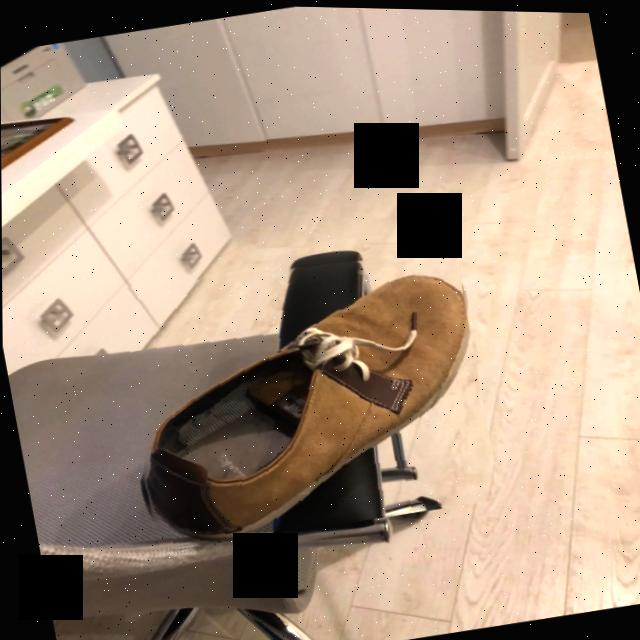shoe: (144, 258, 469, 540)
